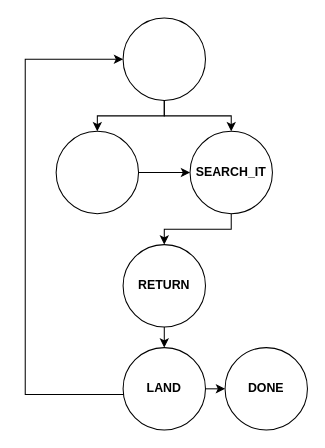
Image size: 325x448. Some labels were removed from this diagram. Each missing label, with the box of its shape:
PLANIFICATE: (55, 130, 139, 214)
TAKEOFF: (122, 17, 205, 100)
